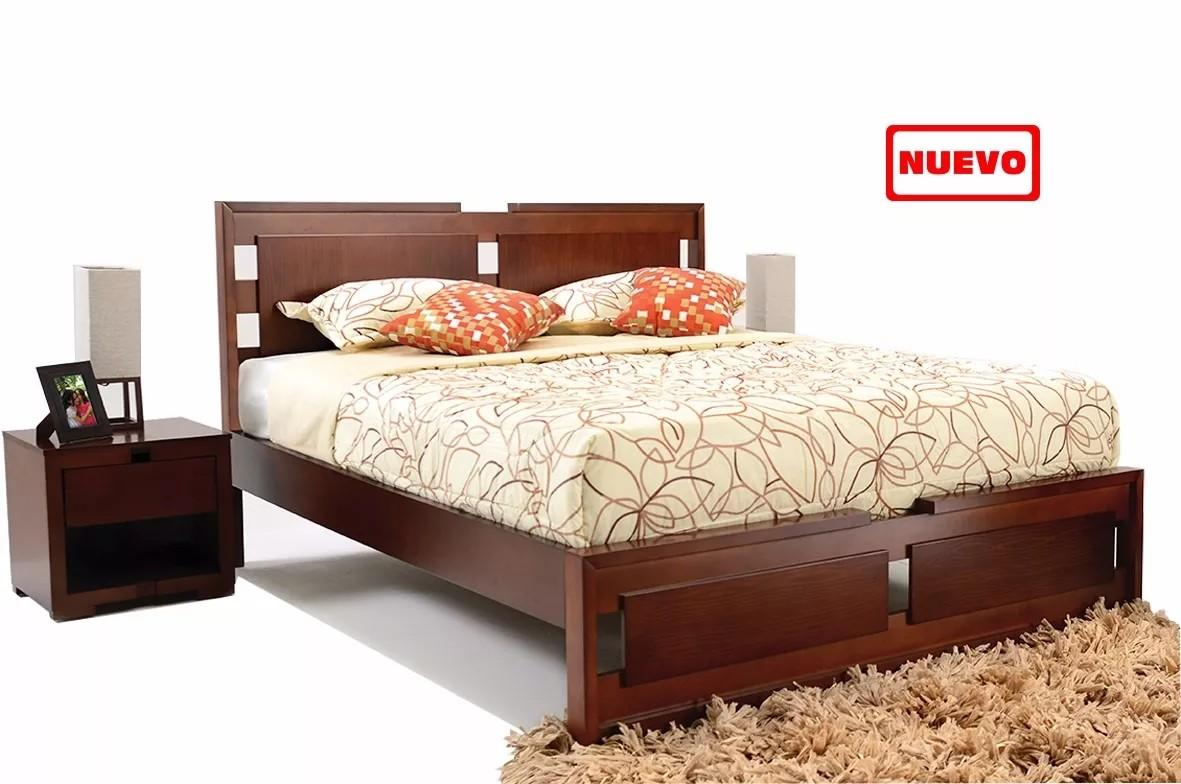bed: (247, 187, 1070, 677)
